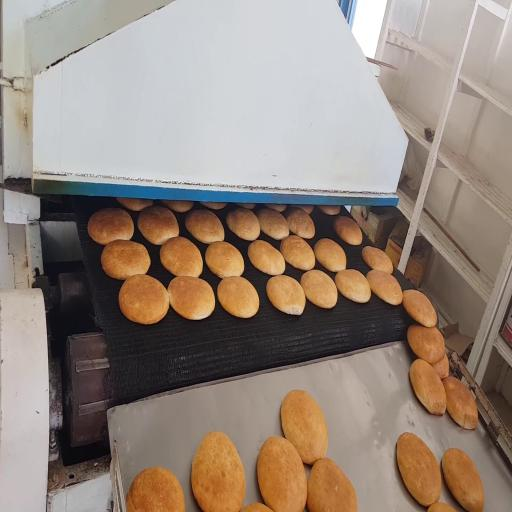bread: (191, 432, 245, 511), (257, 437, 307, 511), (281, 390, 327, 465), (397, 433, 441, 506), (307, 458, 357, 511), (442, 448, 484, 511), (126, 467, 185, 511), (119, 275, 169, 324), (168, 276, 215, 320), (410, 359, 446, 414), (101, 240, 150, 280), (443, 377, 478, 429), (218, 276, 259, 318), (88, 208, 134, 245), (160, 237, 202, 277), (138, 206, 179, 245), (267, 275, 305, 315), (407, 325, 445, 364), (205, 242, 244, 278), (301, 270, 337, 308), (248, 240, 285, 275), (186, 210, 224, 244), (403, 290, 437, 327), (280, 235, 315, 270), (367, 270, 402, 305), (335, 270, 370, 303), (226, 208, 260, 240), (314, 238, 346, 272), (256, 209, 289, 240), (285, 208, 315, 238), (362, 246, 393, 274), (432, 353, 450, 400), (334, 216, 362, 245), (117, 198, 153, 211), (162, 200, 193, 212), (242, 503, 271, 511), (318, 205, 340, 215), (428, 503, 455, 511), (201, 202, 226, 210), (294, 205, 313, 214), (266, 204, 286, 212), (237, 203, 255, 209)
